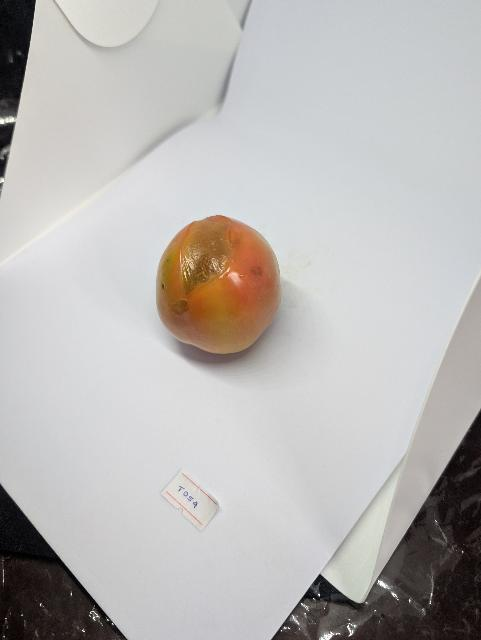defect: (148, 207, 289, 358)
